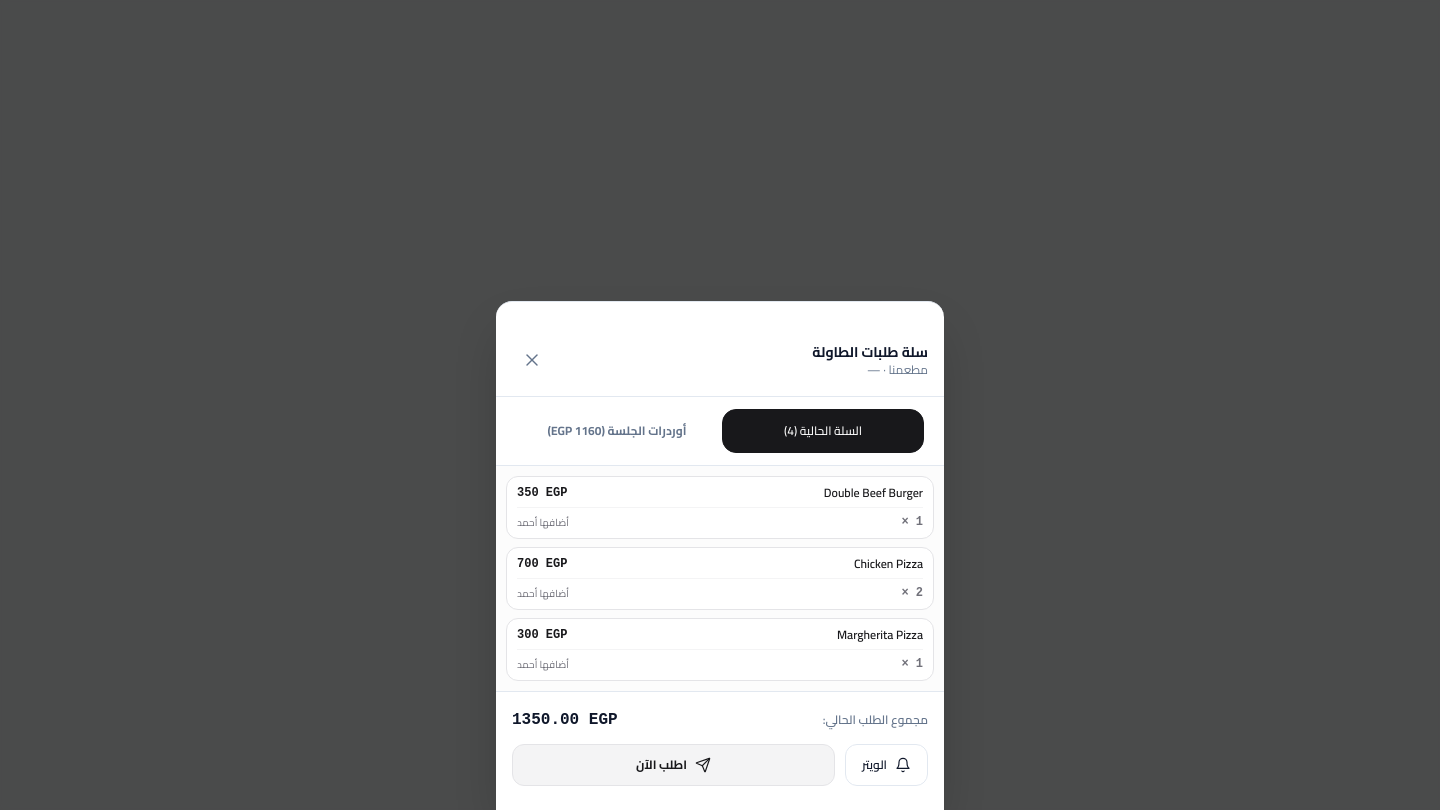
it: CartDrawer Component (2-Tab Segmented Mobile Drawer) › switches to Session Orders tab and renders confirmed orders & member breakdown
Click the button "أوردرات الجلسة (1160 EGP)": (617, 431) [516,409,718,453]
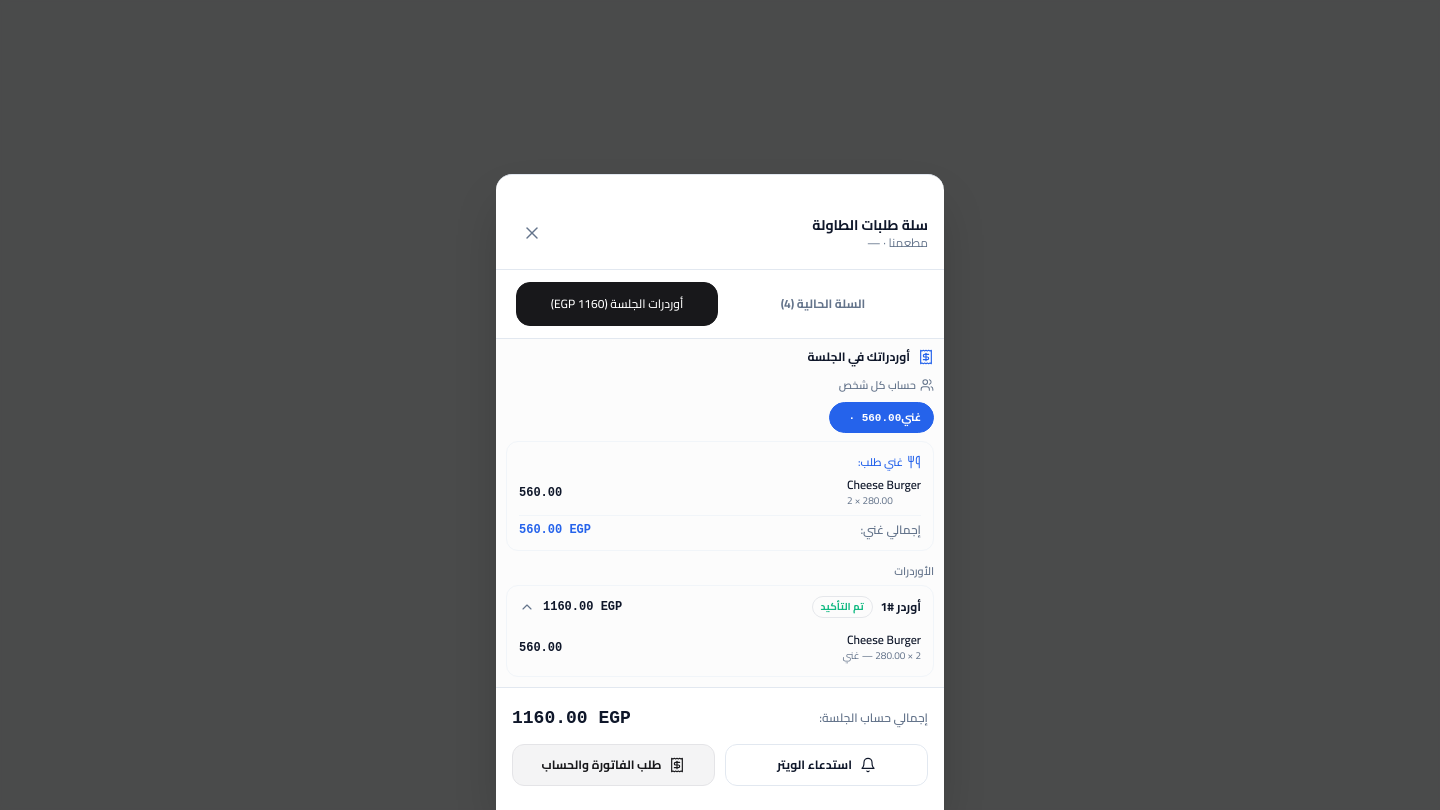
Check: the heading "أوردراتك في الجلسة" is shown, box [807,349,910,365]
Check: the text "حساب كل شخص" is shown, box [839,375,934,395]
Check: the text "أوردر #1" is shown, box [881,599,921,615]
